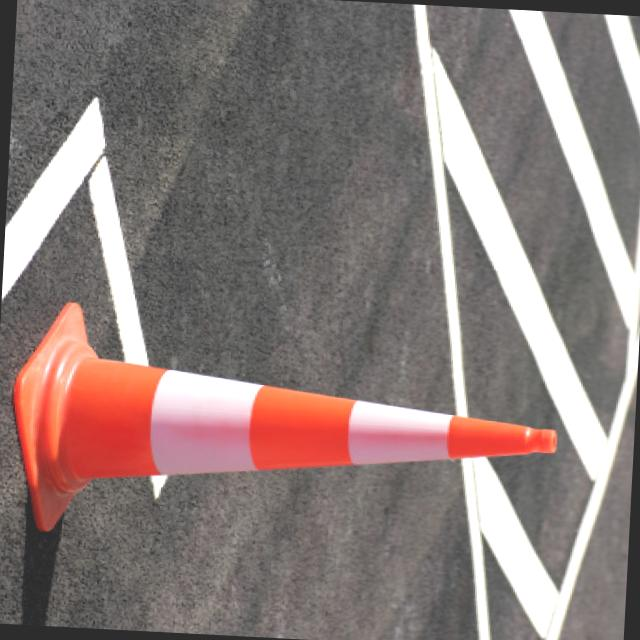cone: (22, 342, 572, 518)
